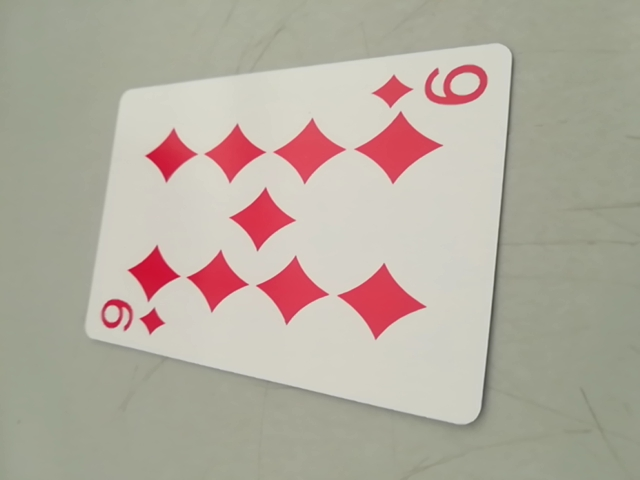fk 9: (370, 58, 494, 116), (93, 294, 175, 345)
